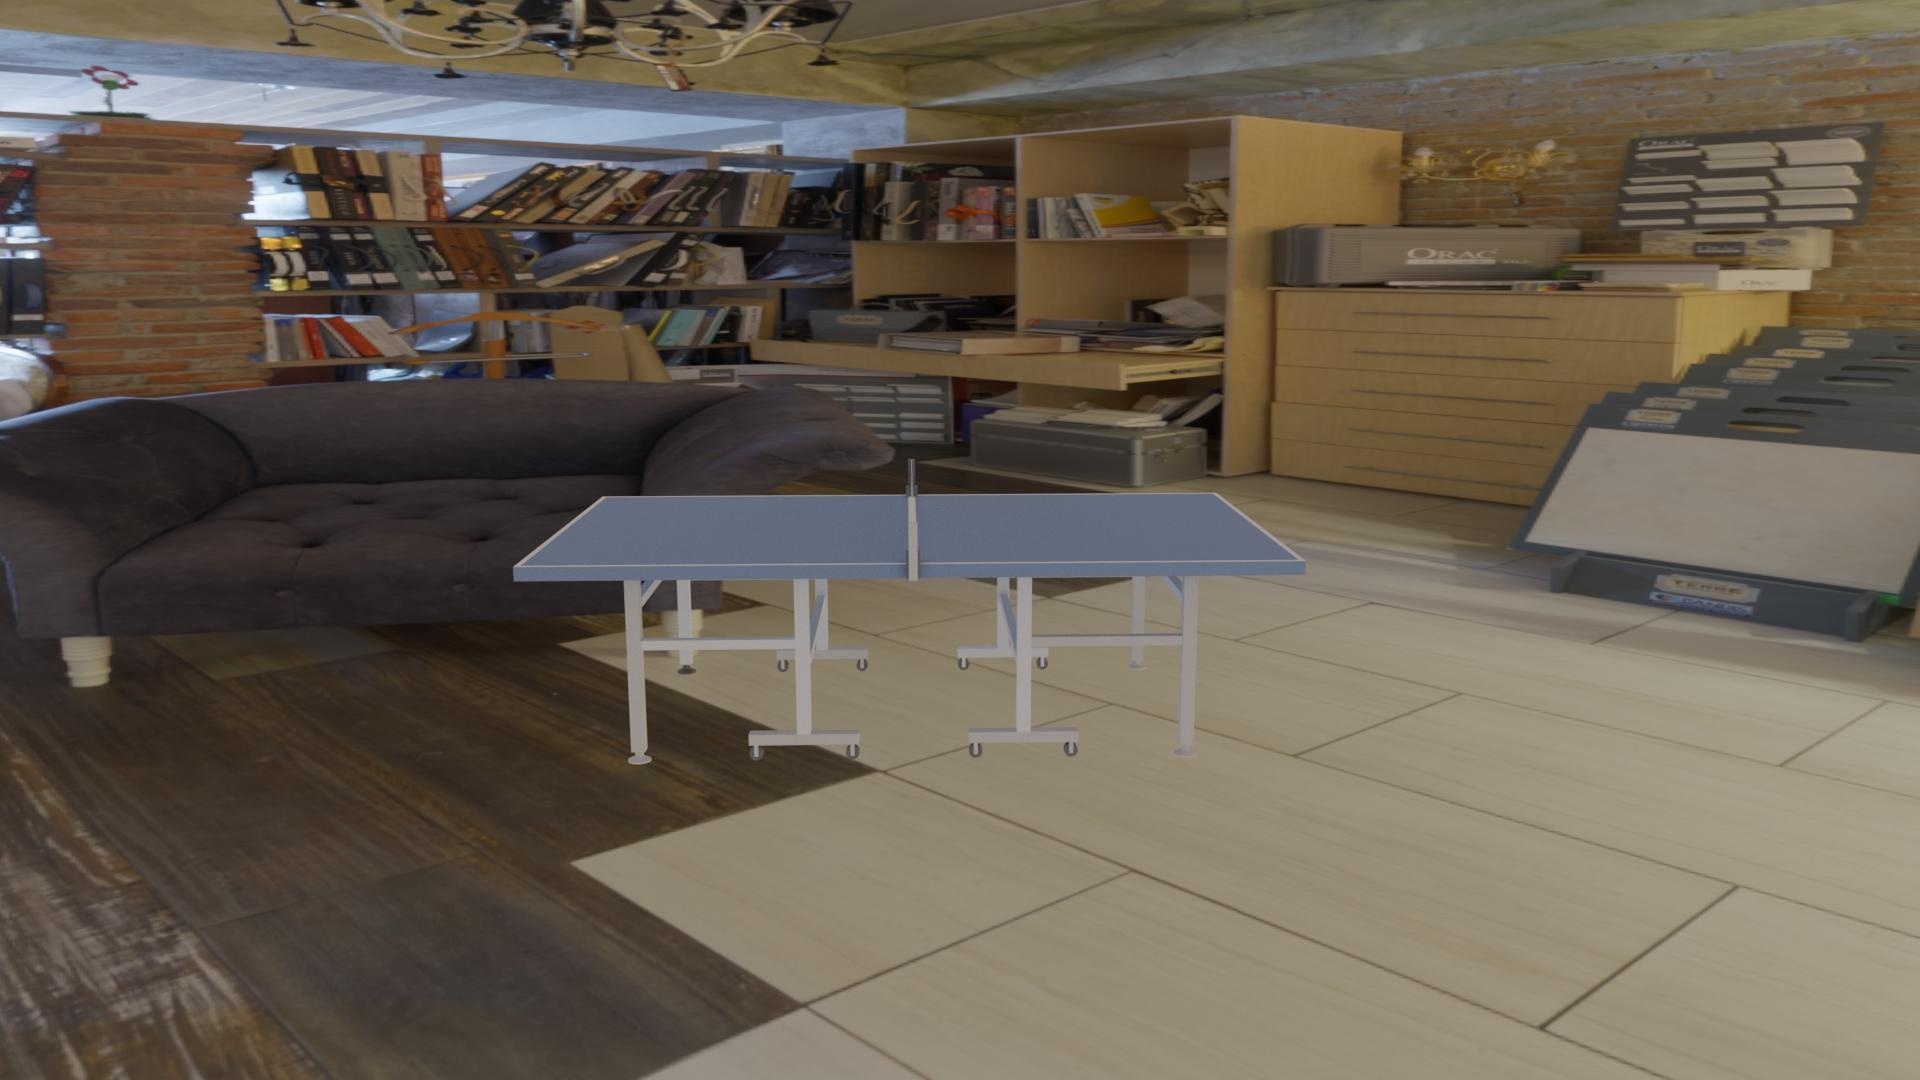table: (521, 493, 1299, 566)
